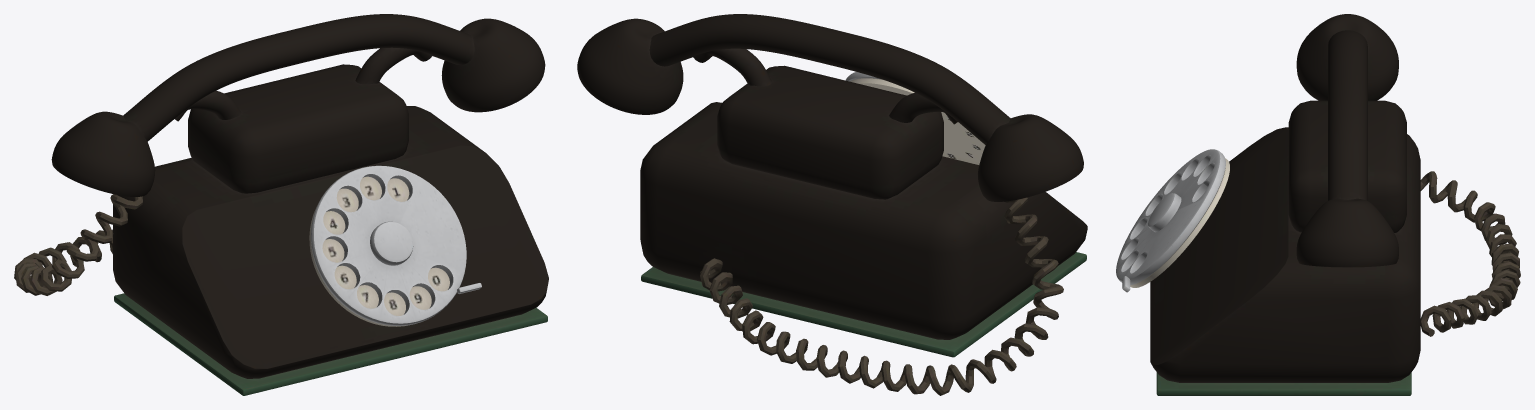
Rendered from telephone.glb.
3 views of the same model, side by side, from view 1: azimuth 30°, elevation 25°; view 2: azimuth 150°, elevation 25°; view 3: azimuth 270°, elevation 25° (orthographic). The views are drawn at different scales.
Parts seen in each view (by area): view 1: telephone; view 2: telephone; view 3: telephone.
Part boxes in pixels (left/top/right/bottom): telephone: left=14, top=14, right=548, bottom=395; telephone: left=577, top=14, right=1087, bottom=395; telephone: left=1116, top=14, right=1520, bottom=395.
Size of the model in its own units: 0.2979 by 0.1532 by 0.2226.
Materials: 1 (1 with a texture image).
